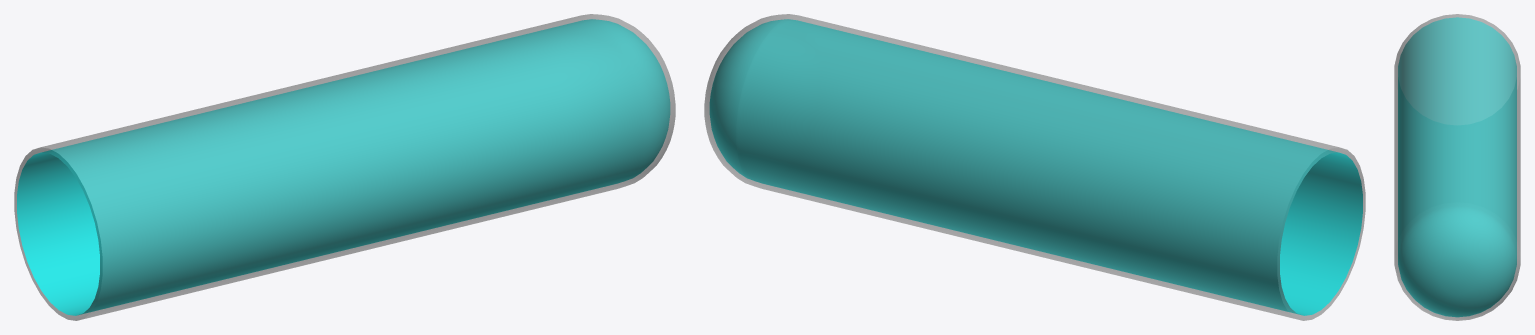
The model's file is vialUVfixedv2.fbx.
The picture shows the model from 3 angles, left to right: view 1: azimuth 30°, elevation 25°; view 2: azimuth 150°, elevation 25°; view 3: azimuth 270°, elevation 25°; orthographic projection. The views are drawn at different scales.
Parts seen in each view (by area): view 1: vial; view 2: vial; view 3: vial.
Part boxes in pixels (x1,y1,x2,y2): vial: (14,14,675,320); vial: (704,14,1365,320); vial: (1394,14,1520,320).
Size of the model in its own units: 149 by 38.25 by 38.04.
